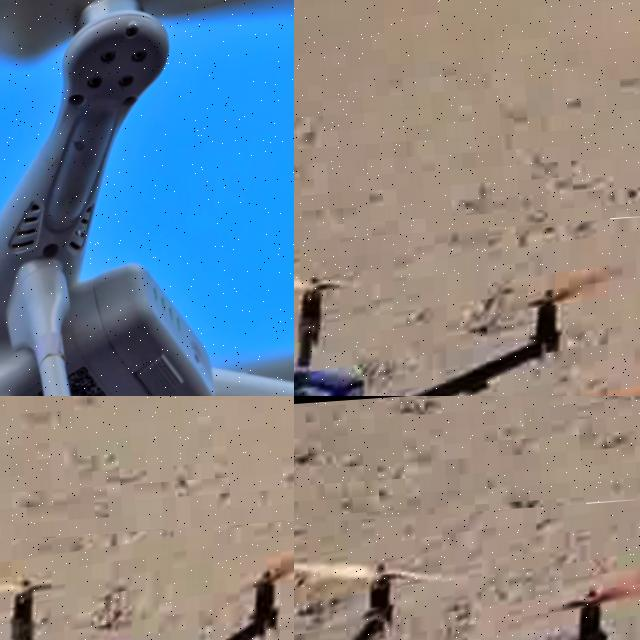drone: (0, 0, 294, 396), (294, 210, 640, 396), (294, 495, 640, 640), (0, 509, 294, 640)
